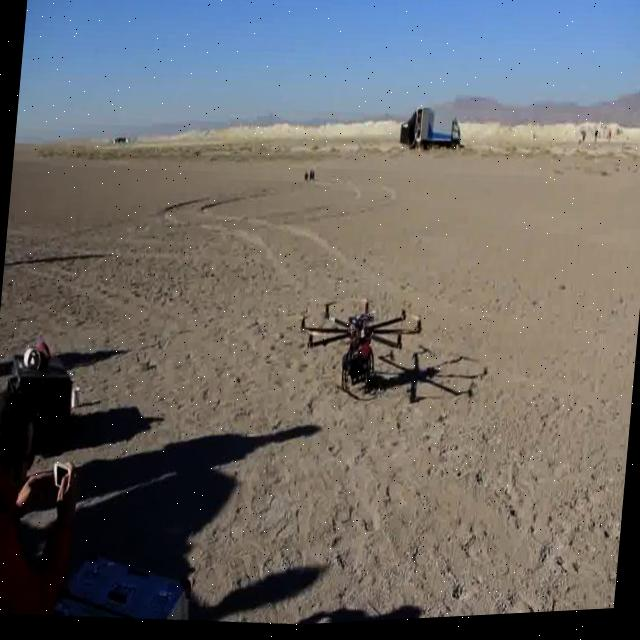drone: (288, 293, 426, 405)
